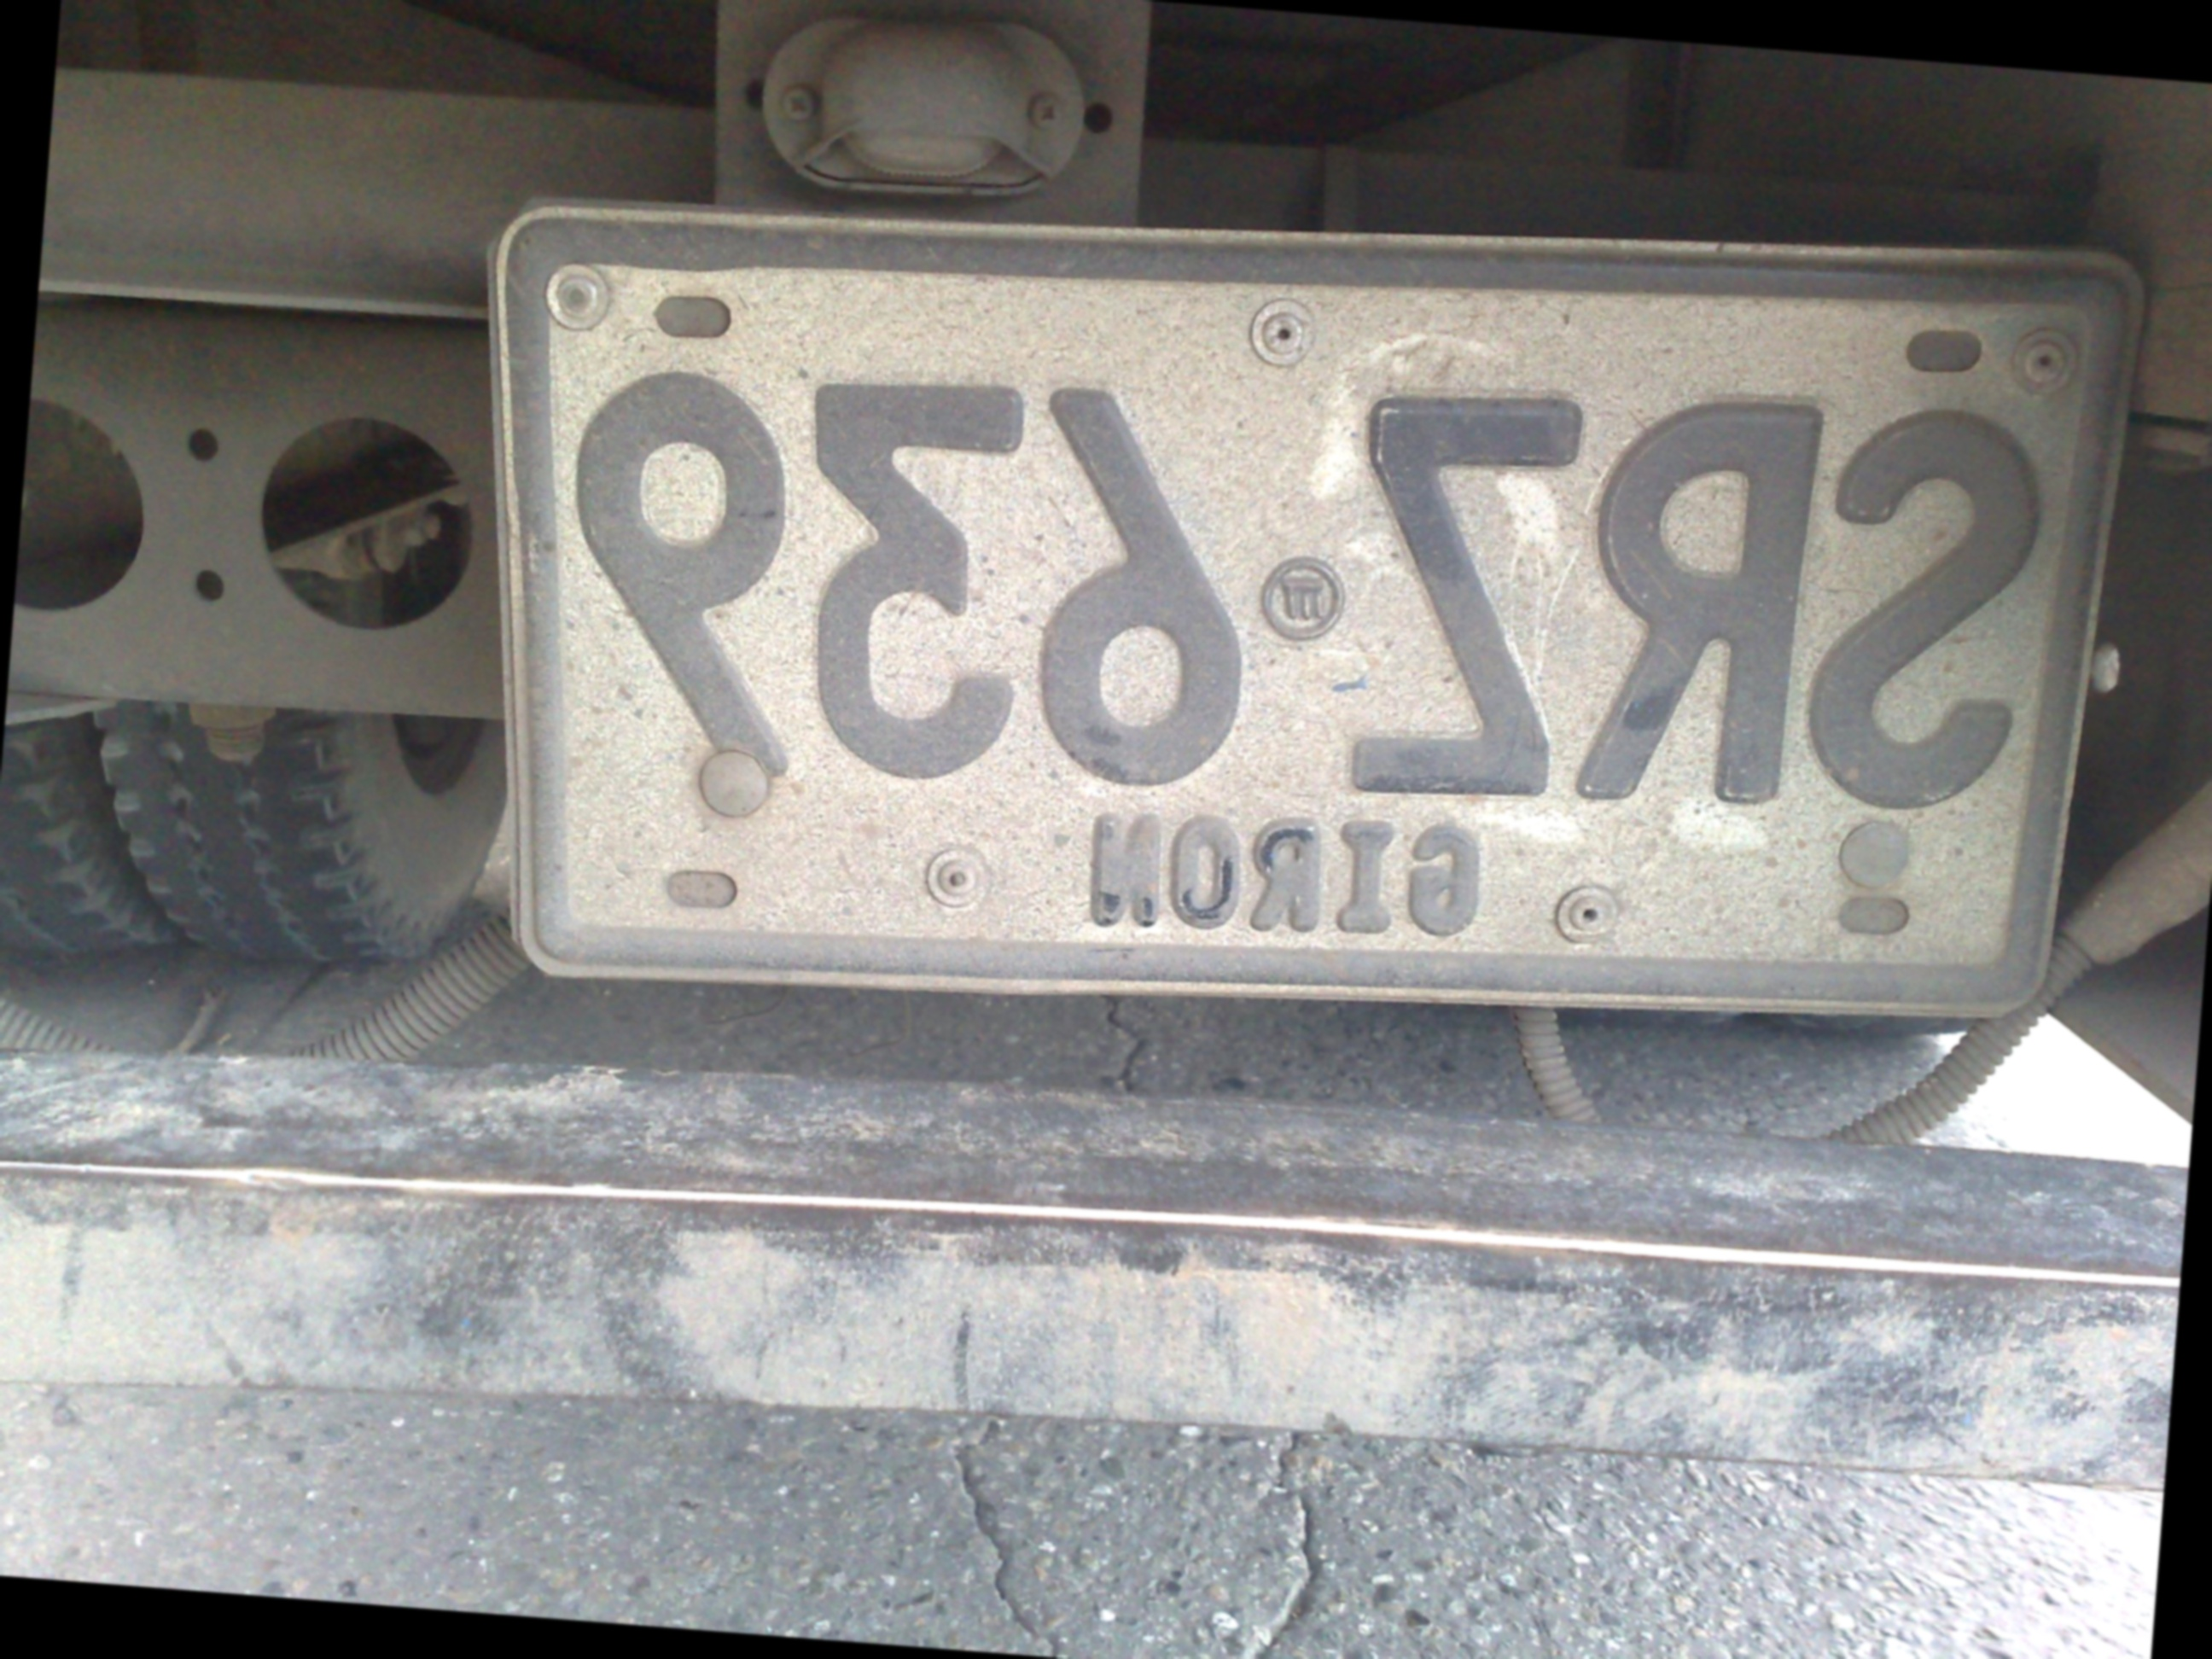placas: (434, 102, 2165, 1113)
